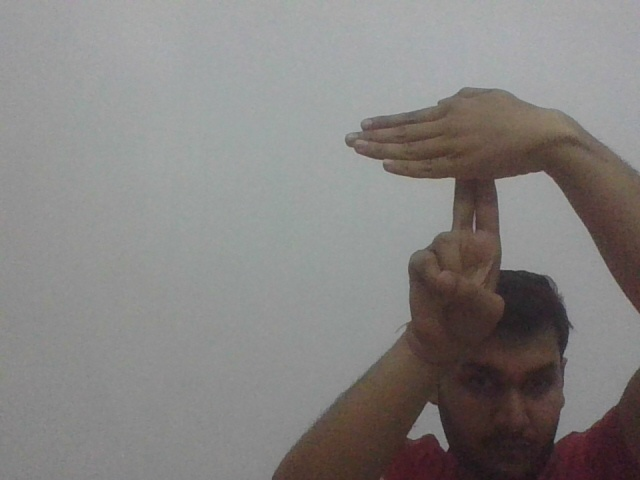N: (342, 84, 543, 228)
